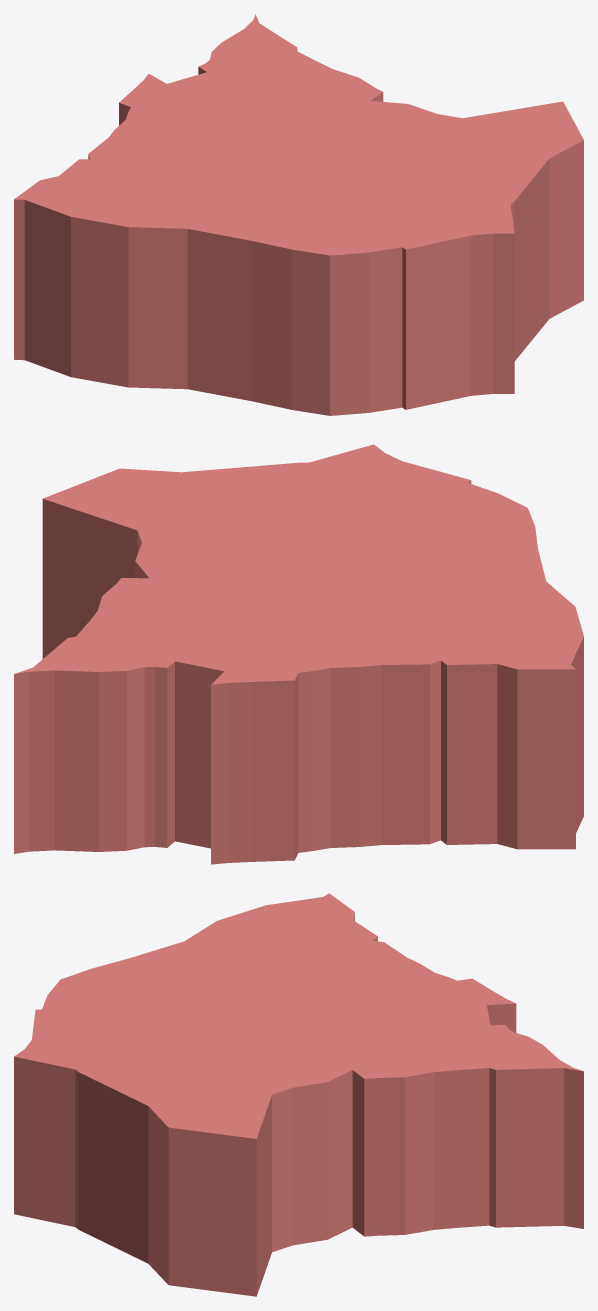
The model's file is piscataway.glb.
3 renders of one model, top to bottom at view 1: azimuth 30°, elevation 25°; view 2: azimuth 150°, elevation 25°; view 3: azimuth 270°, elevation 25°, orthographic. The views are drawn at different scales.
Parts seen in each view (by area): view 1: Plane.002; view 2: Plane.002; view 3: Plane.002.
Boxes of the visible parts, x1,y1,x2,y2 form: Plane.002: (14,14,583,415); Plane.002: (14,444,583,864); Plane.002: (14,893,583,1296).
Size of the model in its own units: 1.22 by 0.3658 by 1.2.
